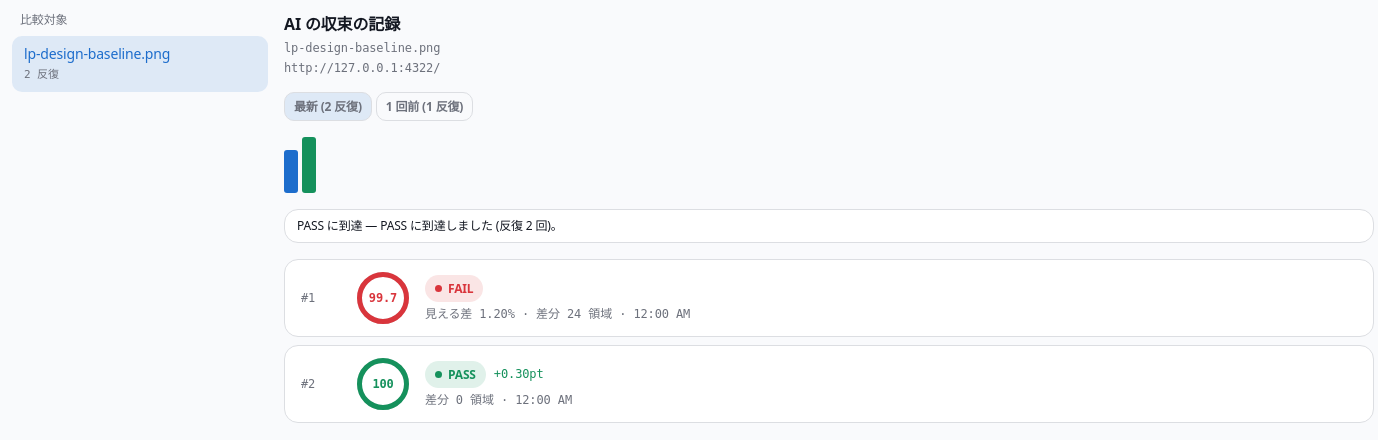
ConvergencePage › キャンペーンが複数あるときは切り替えられる
expect the number of buttons with test id "convergence-step-row" is 2: met, box x1=284 y1=259 x2=1374 y2=337; x1=284 y1=345 x2=1374 y2=423
expect the button "最新 (2 反復)" is shown: met, box x1=284 y1=92 x2=372 y2=121
Click the button "1 回前 (1 反復)" at (425, 107), box x1=376 y1=92 x2=473 y2=121
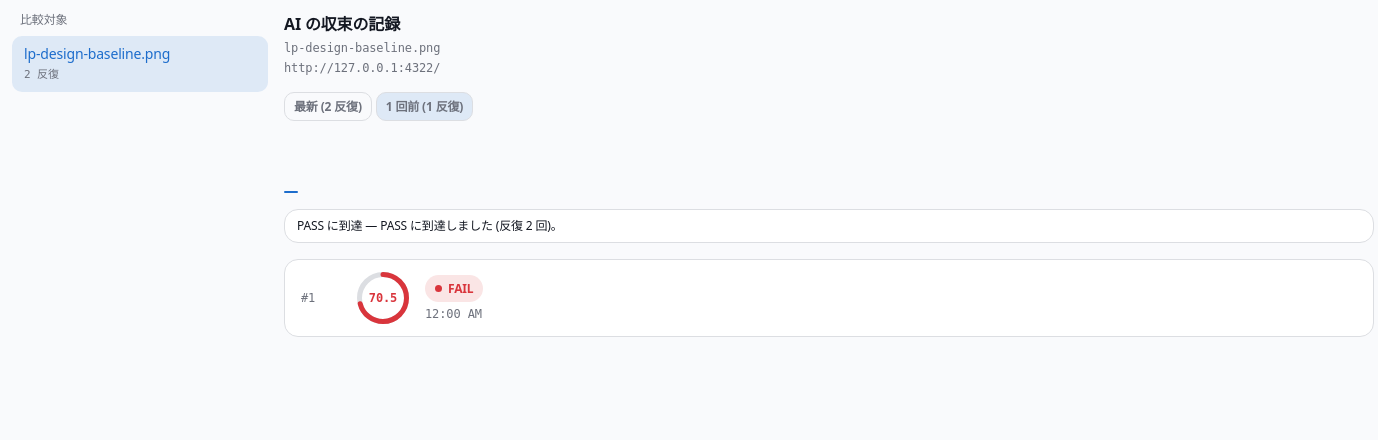
expect the number of buttons with test id "convergence-step-row" is 1: met, box x1=284 y1=259 x2=1374 y2=337
expect the text "70.5" is shown: met, box x1=369 y1=289 x2=397 y2=308
